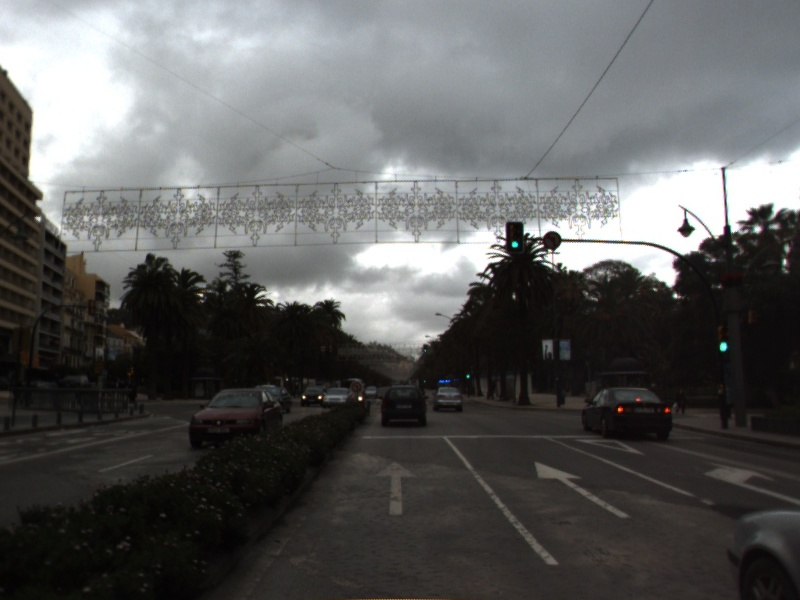RIGHT: (700, 458, 800, 506)
STRAIGHT: (533, 460, 633, 520), (373, 458, 421, 517)
